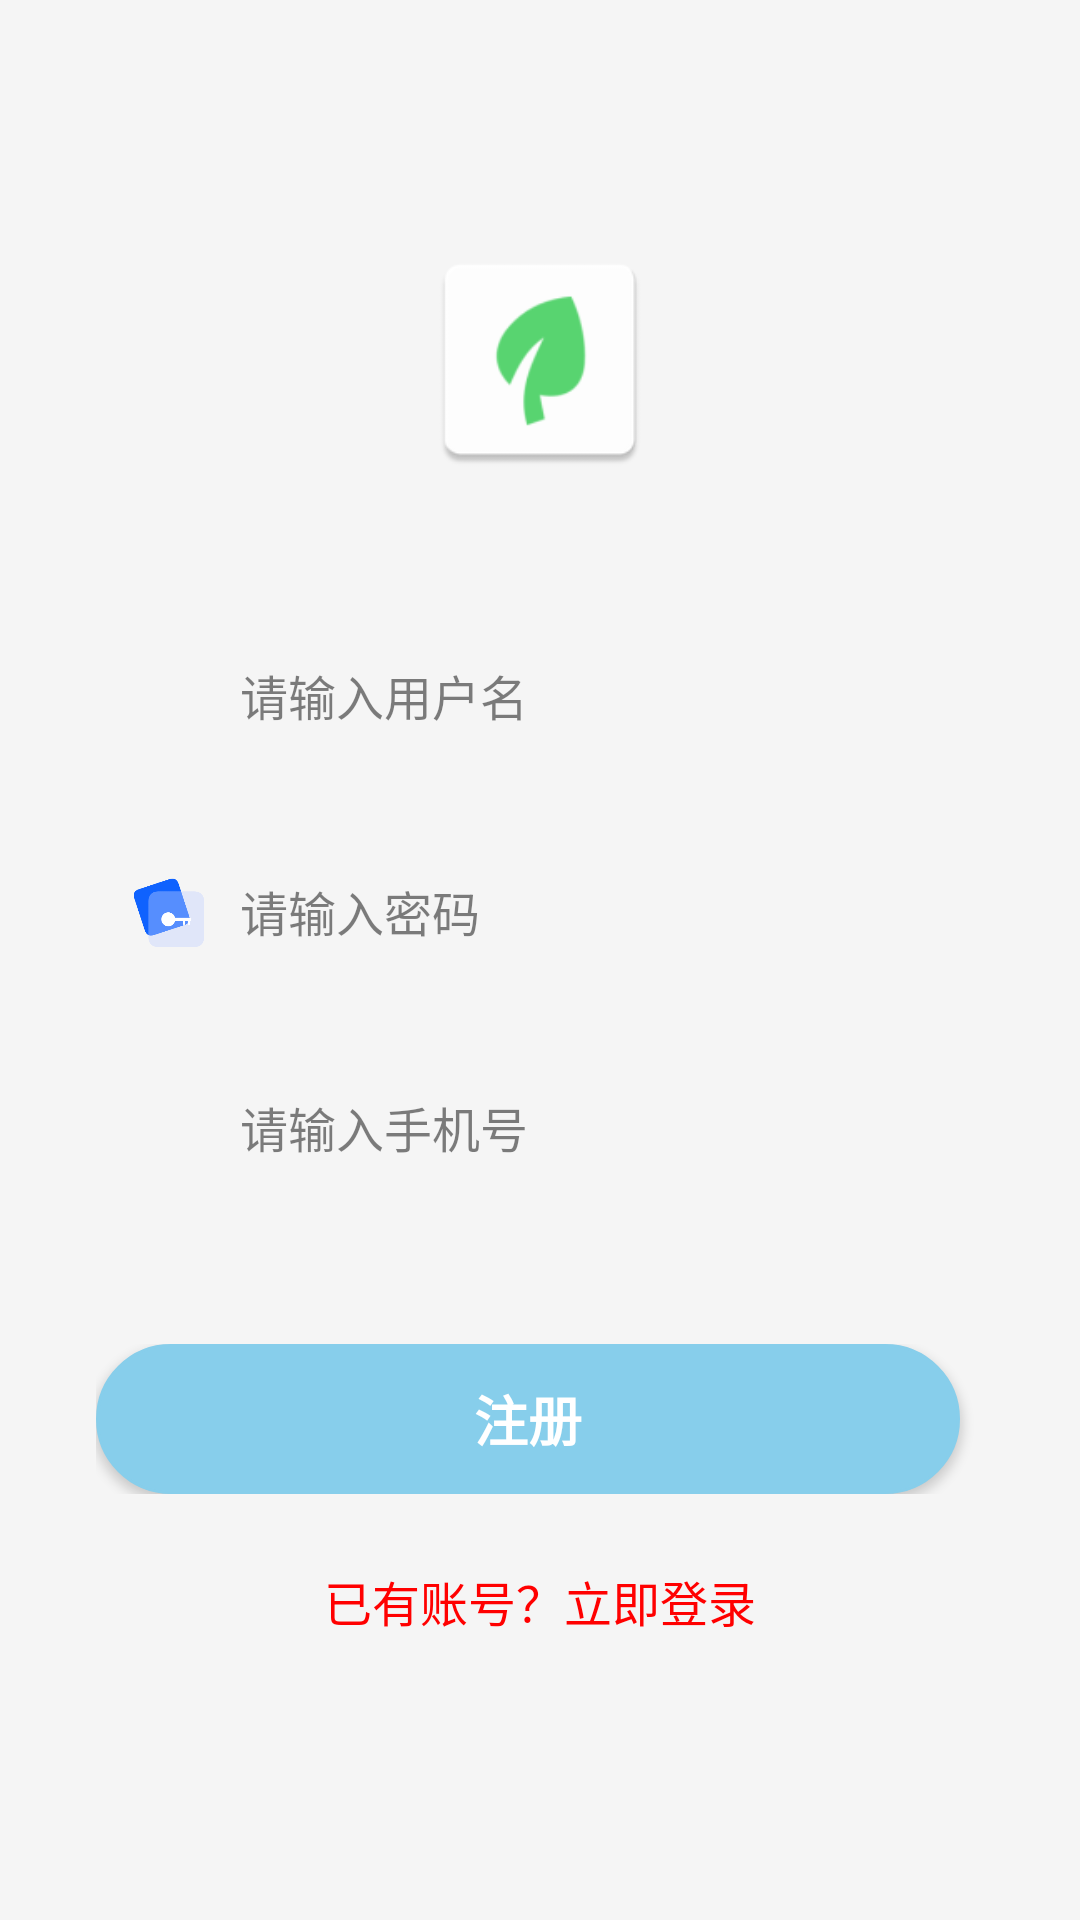

Screen size 1080×1920. Icon name, then its center in pixels as point (x, y):
password: point (162, 907)
